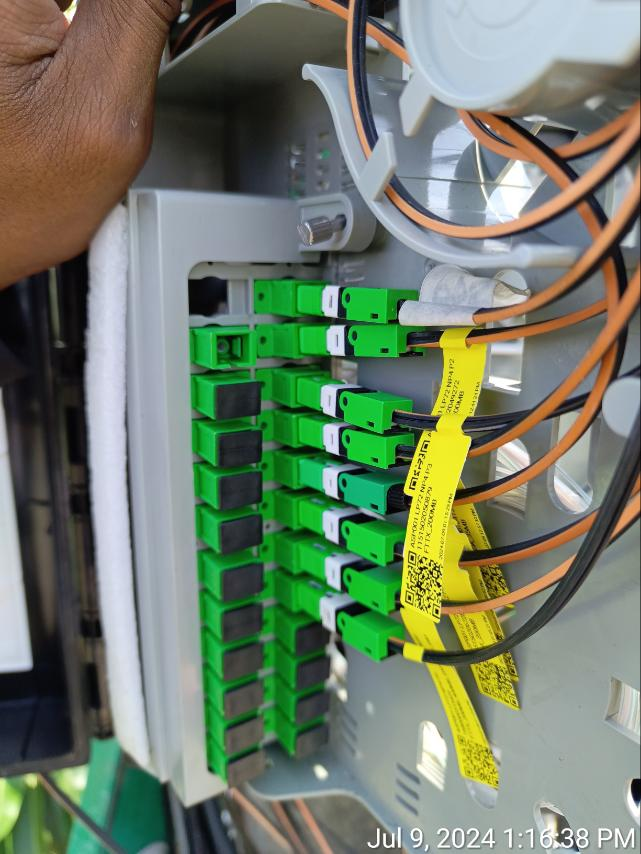no dust cap: (214, 333, 257, 368)
no port: (188, 280, 252, 316)
occupied: (292, 574, 404, 671), (303, 536, 407, 622), (297, 371, 416, 435), (298, 498, 404, 568), (299, 456, 411, 521), (300, 413, 414, 468), (296, 285, 418, 326), (299, 324, 429, 358)
vacant: (227, 748, 268, 792), (219, 513, 262, 554), (219, 471, 263, 511), (216, 382, 262, 420), (224, 680, 266, 721), (217, 431, 263, 466), (228, 714, 266, 756), (222, 603, 264, 641), (223, 565, 264, 601), (295, 619, 334, 656), (224, 644, 263, 681), (296, 686, 330, 723), (297, 654, 331, 690), (297, 723, 328, 758)
